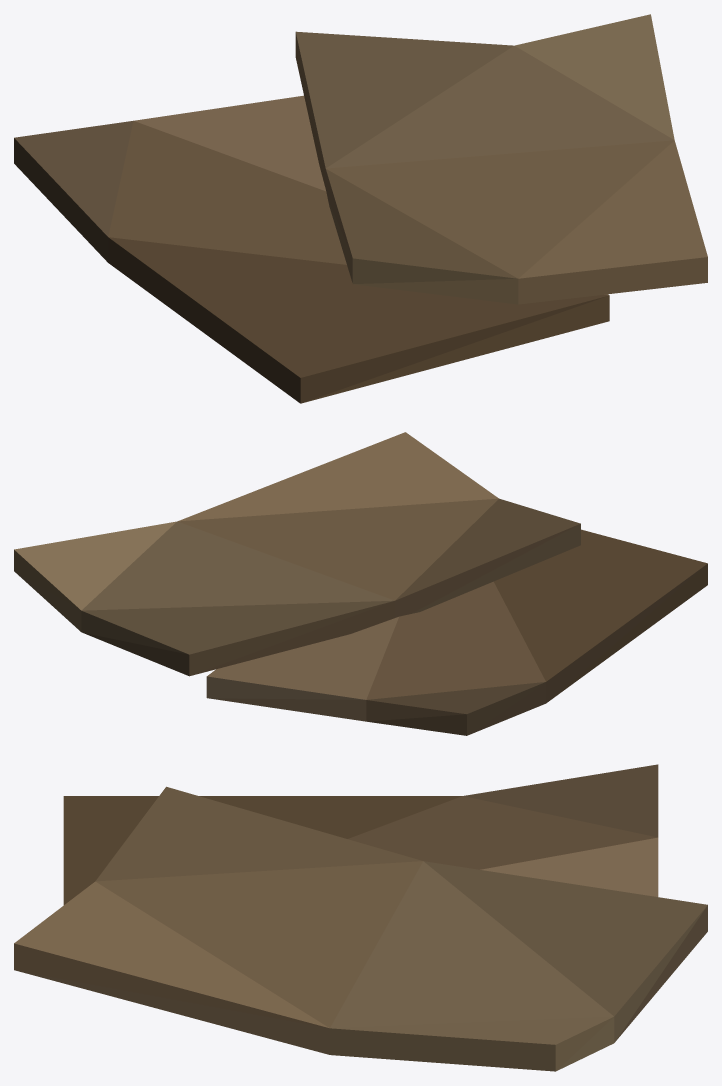
File: prop_literature_paper_1.fbx
The picture shows the model from 3 angles, top to bottom: view 1: azimuth 30°, elevation 25°; view 2: azimuth 150°, elevation 25°; view 3: azimuth 270°, elevation 25°; orthographic projection. The views are drawn at different scales.
Parts seen in each view (by area): view 1: prop_literature_paper_1; view 2: prop_literature_paper_1; view 3: prop_literature_paper_1.
Boxes of the visible parts, x1=… form: prop_literature_paper_1: x1=14, y1=14, x2=707, y2=403; prop_literature_paper_1: x1=14, y1=432, x2=707, y2=735; prop_literature_paper_1: x1=14, y1=764, x2=707, y2=1071.
Bounding box in the file's own units: 0.5547 × 0.0762 × 0.5472.
